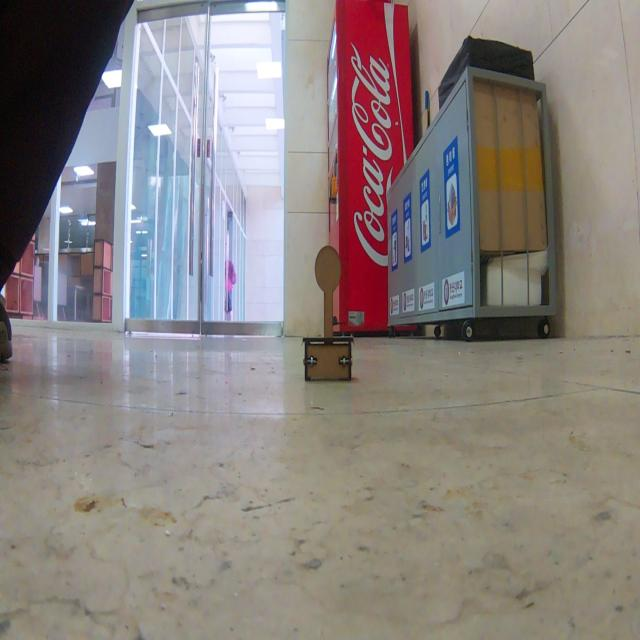target: (302, 245, 354, 382)
